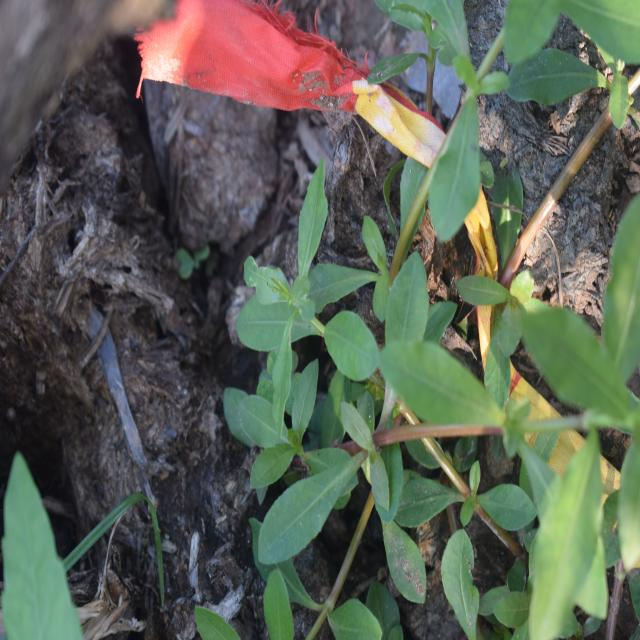Alligatorweed: (208, 176, 424, 552)
